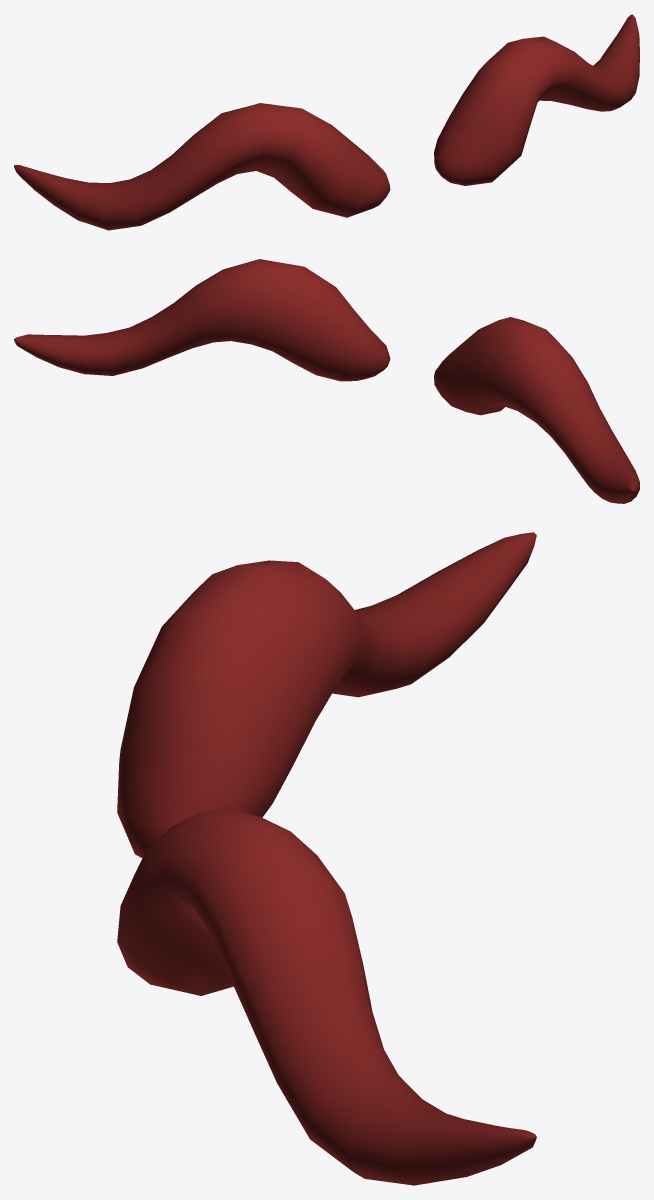
The model's file is devil_horn5.fbx.
3 renders of one model, top to bottom at view 1: azimuth 30°, elevation 25°; view 2: azimuth 150°, elevation 25°; view 3: azimuth 270°, elevation 25°, orthographic. The views are drawn at different scales.
Parts seen in each view (by area): view 1: horn5zremesh:polySurface1; view 2: horn5zremesh:polySurface1; view 3: horn5zremesh:polySurface1.
Part boxes in pixels (left/top/right/bottom): horn5zremesh:polySurface1: left=14, top=14, right=639, bottom=230; horn5zremesh:polySurface1: left=14, top=259, right=639, bottom=503; horn5zremesh:polySurface1: left=117, top=532, right=536, bottom=1185.
Size of the model in its own units: 3.84 by 0.6917 by 1.13.
